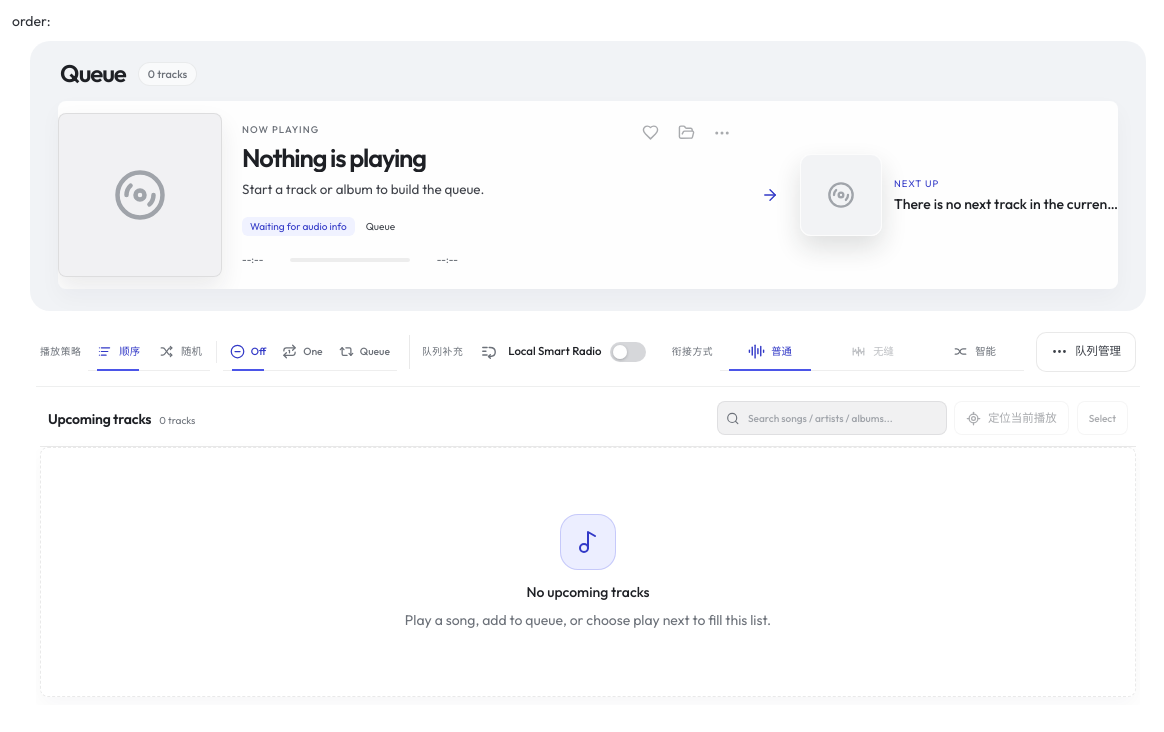
Test case: QueuePage › generates random queues as refreshable song-library random queues
Click the button "队列管理" at point(1086, 352), box [1036,332,1136,372]
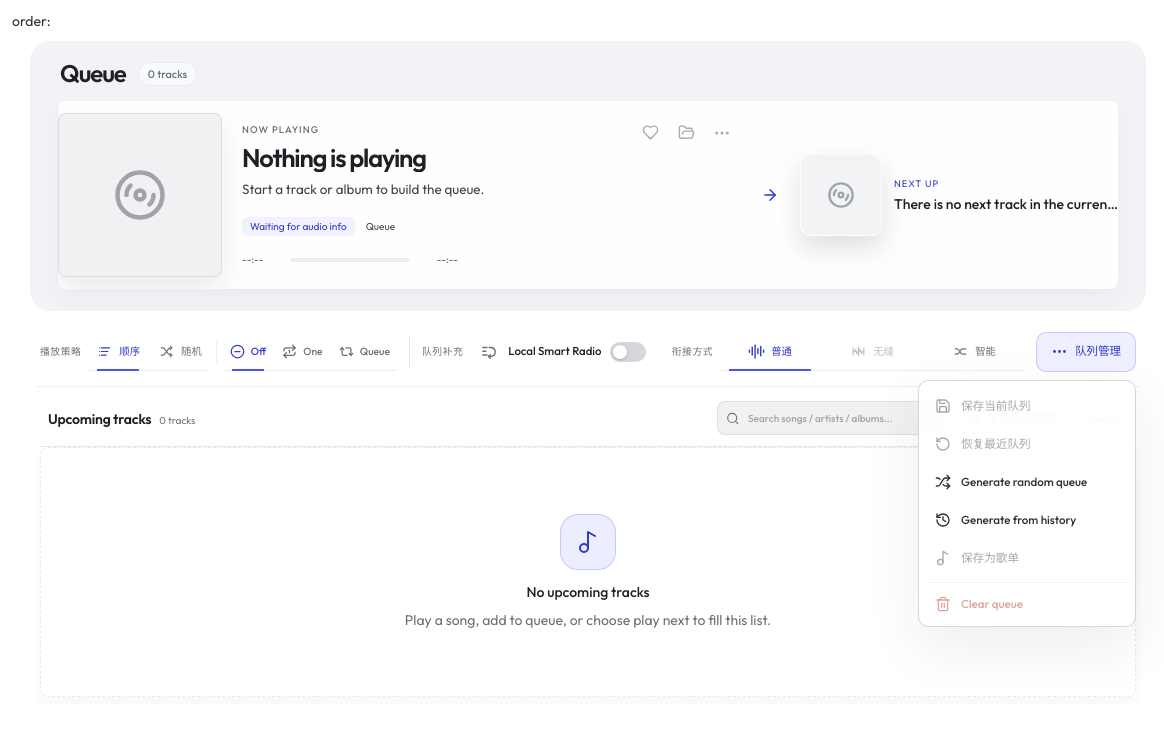
Click the menu item "Generate random queue" at point(1027, 482), box [925,463,1129,501]
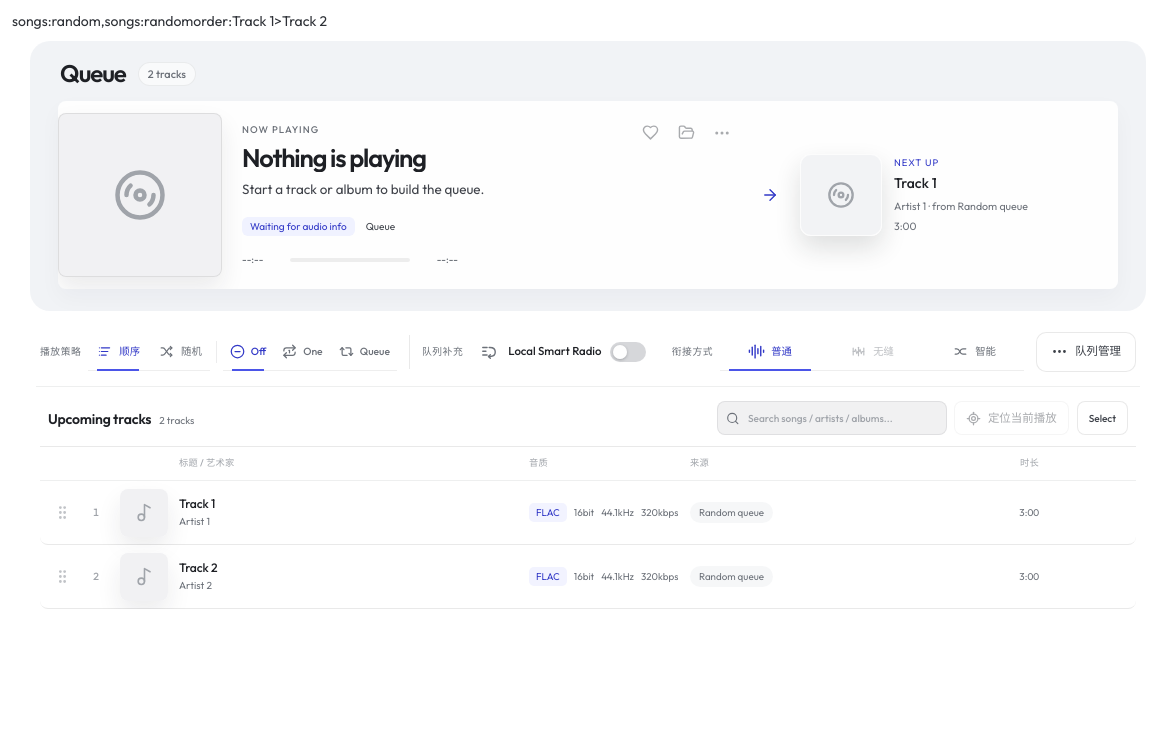
Now the text named "queue-sources" reads "songs:random,songs:random", box [12,12,193,30]
